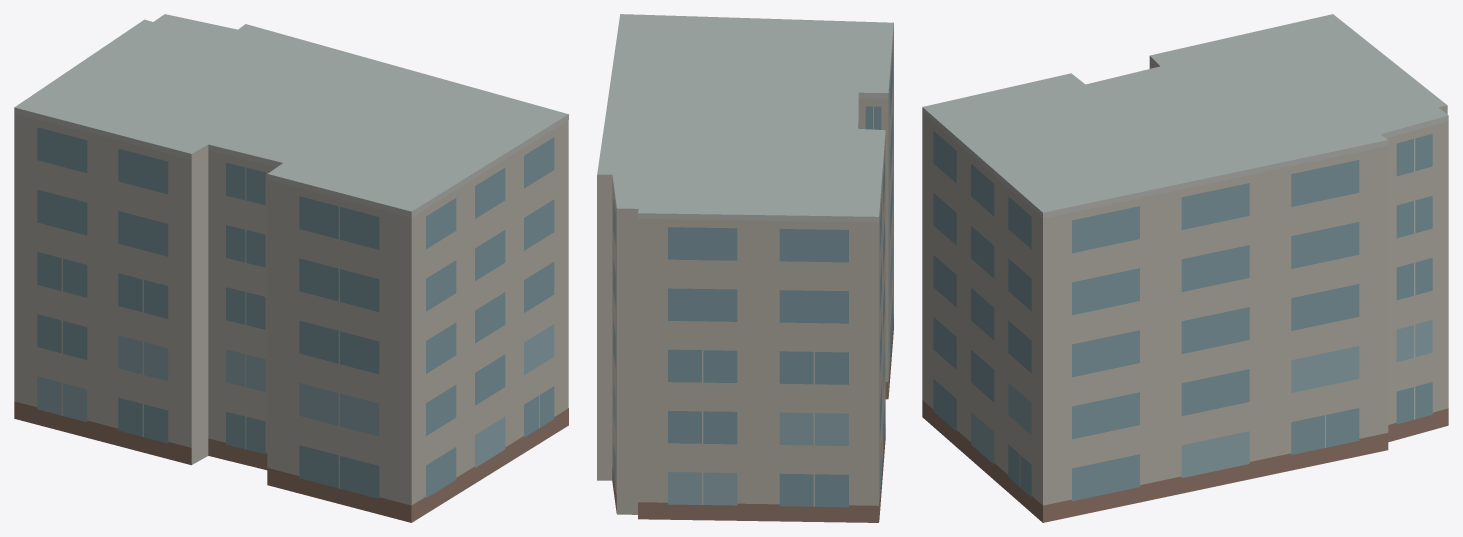
File: survey-upis-32835598.glb
3 renders of one model, left to right at view 1: azimuth 30°, elevation 25°; view 2: azimuth 150°, elevation 25°; view 3: azimuth 270°, elevation 25°, orthographic.
Visible parts, largest first — view 1: survey-upis-32835598.tmp; view 2: survey-upis-32835598.tmp; view 3: survey-upis-32835598.tmp.
Part boxes in pixels (<box>): survey-upis-32835598.tmp: <box>14,14,568,522</box>; survey-upis-32835598.tmp: <box>597,14,893,522</box>; survey-upis-32835598.tmp: <box>922,14,1448,522</box>.
Bounding box in the file's own units: 18.29 × 13.3 × 20.47.
